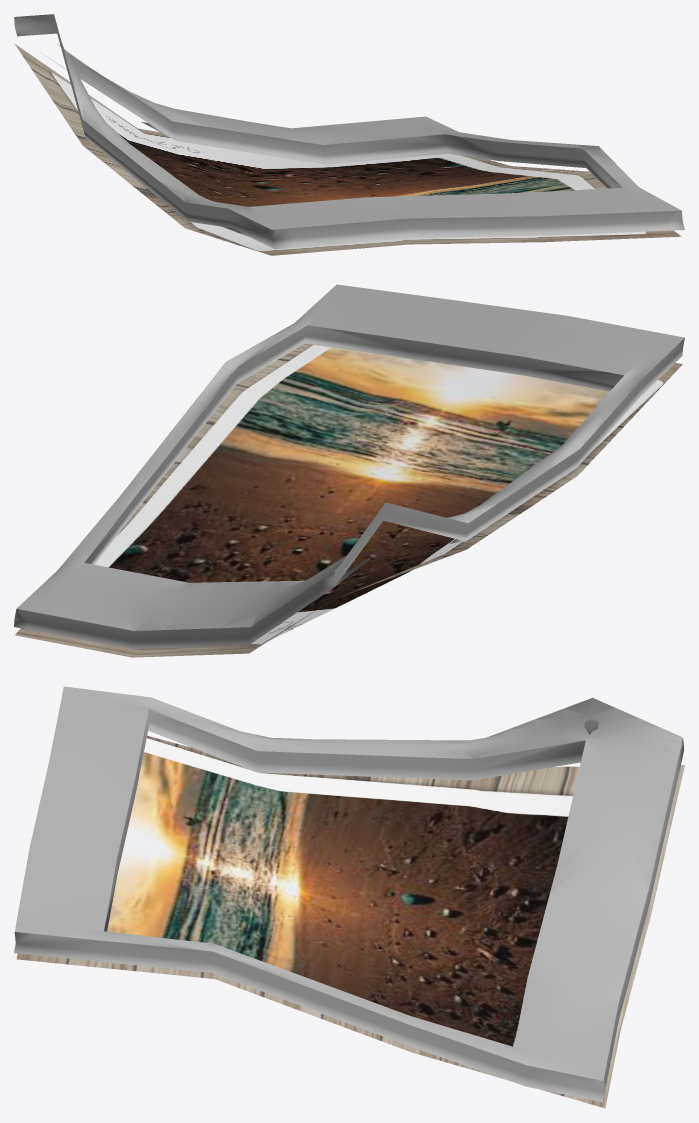
3 views of the same model, one above another, from view 1: azimuth 30°, elevation 25°; view 2: azimuth 150°, elevation 25°; view 3: azimuth 270°, elevation 25° (orthographic). The views are drawn at different scales.
Parts seen in each view (by area): view 1: Object_1, Object_0; view 2: Object_0, Object_1; view 3: Object_0, Object_1.
Boxes of the visible parts, left/top/right/bottom form: Object_1: left=14, top=14, right=684, bottom=249; Object_0: left=14, top=43, right=681, bottom=255; Object_0: left=15, top=343, right=682, bottom=657; Object_1: left=14, top=284, right=684, bottom=649; Object_0: left=16, top=736, right=684, bottom=1108; Object_1: left=14, top=686, right=684, bottom=1102.
Bounding box in the file's own units: 34.9 × 17.63 × 47.47.
Materials: 2 (1 with a texture image).
